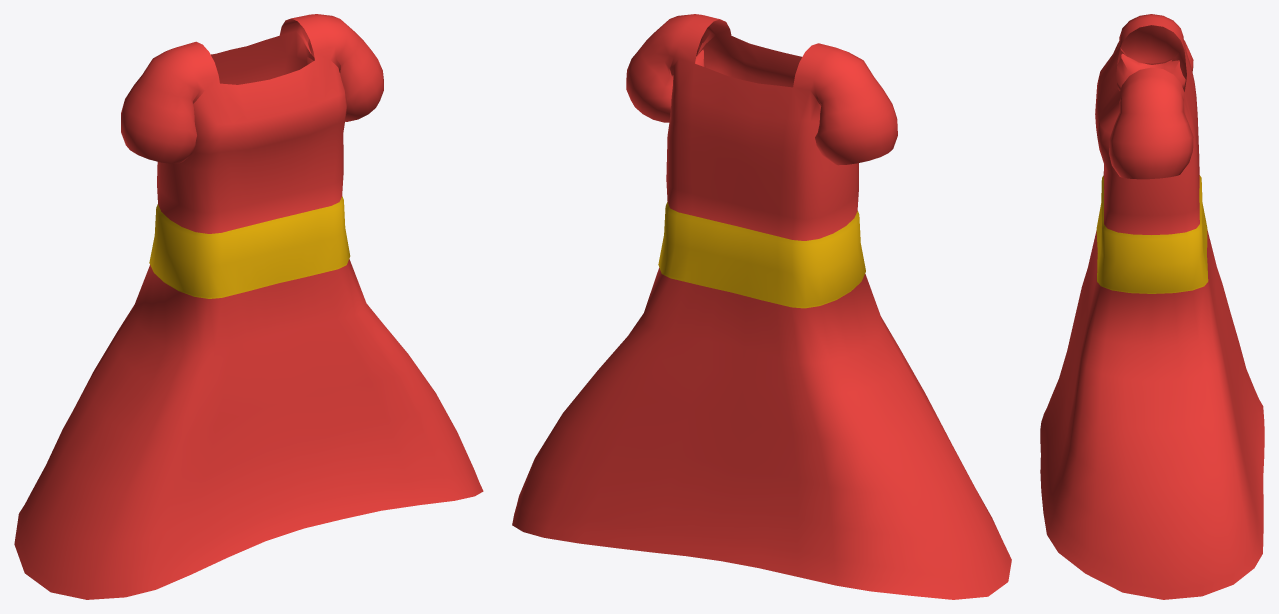
Rendered from dress.gltf.
3 renders of one model, left to right at view 1: azimuth 30°, elevation 25°; view 2: azimuth 150°, elevation 25°; view 3: azimuth 270°, elevation 25°, orthographic. The views are drawn at different scales.
Visible parts, largest first — view 1: Circle.1791; view 2: Circle.1791; view 3: Circle.1791.
Boxes of the visible parts, <box> form: Circle.1791: <box>14,14,483,599</box>; Circle.1791: <box>512,14,1011,599</box>; Circle.1791: <box>1040,14,1264,599</box>.
Bounding box in the file's own units: 2.1 × 2.27 × 1.01.
1 material, 1 textured.
